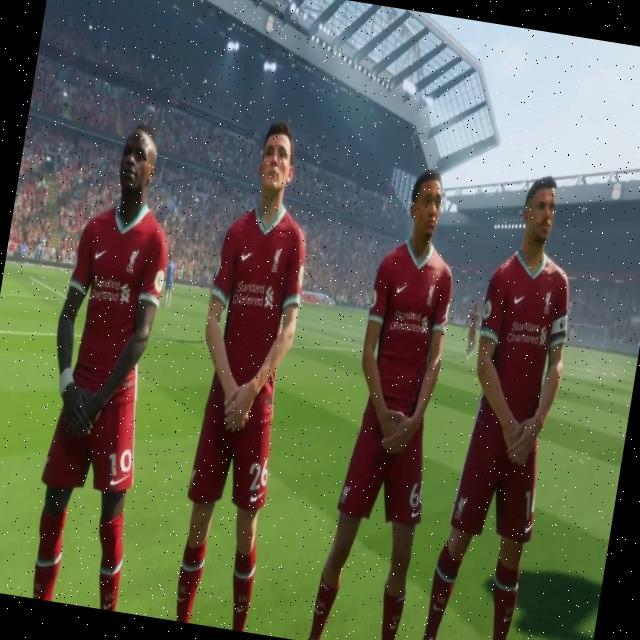Nike: (109, 471, 130, 488), (250, 489, 266, 504), (396, 282, 409, 296), (241, 250, 254, 264), (94, 248, 107, 261), (103, 598, 115, 611), (237, 602, 249, 615), (513, 294, 525, 306), (524, 523, 534, 536), (411, 508, 422, 519), (433, 603, 444, 613), (177, 594, 187, 603), (314, 607, 324, 616), (503, 615, 512, 624), (390, 622, 399, 630)
Standard Chartered: (233, 281, 276, 311), (90, 277, 133, 306), (506, 320, 549, 349), (390, 309, 431, 335)
